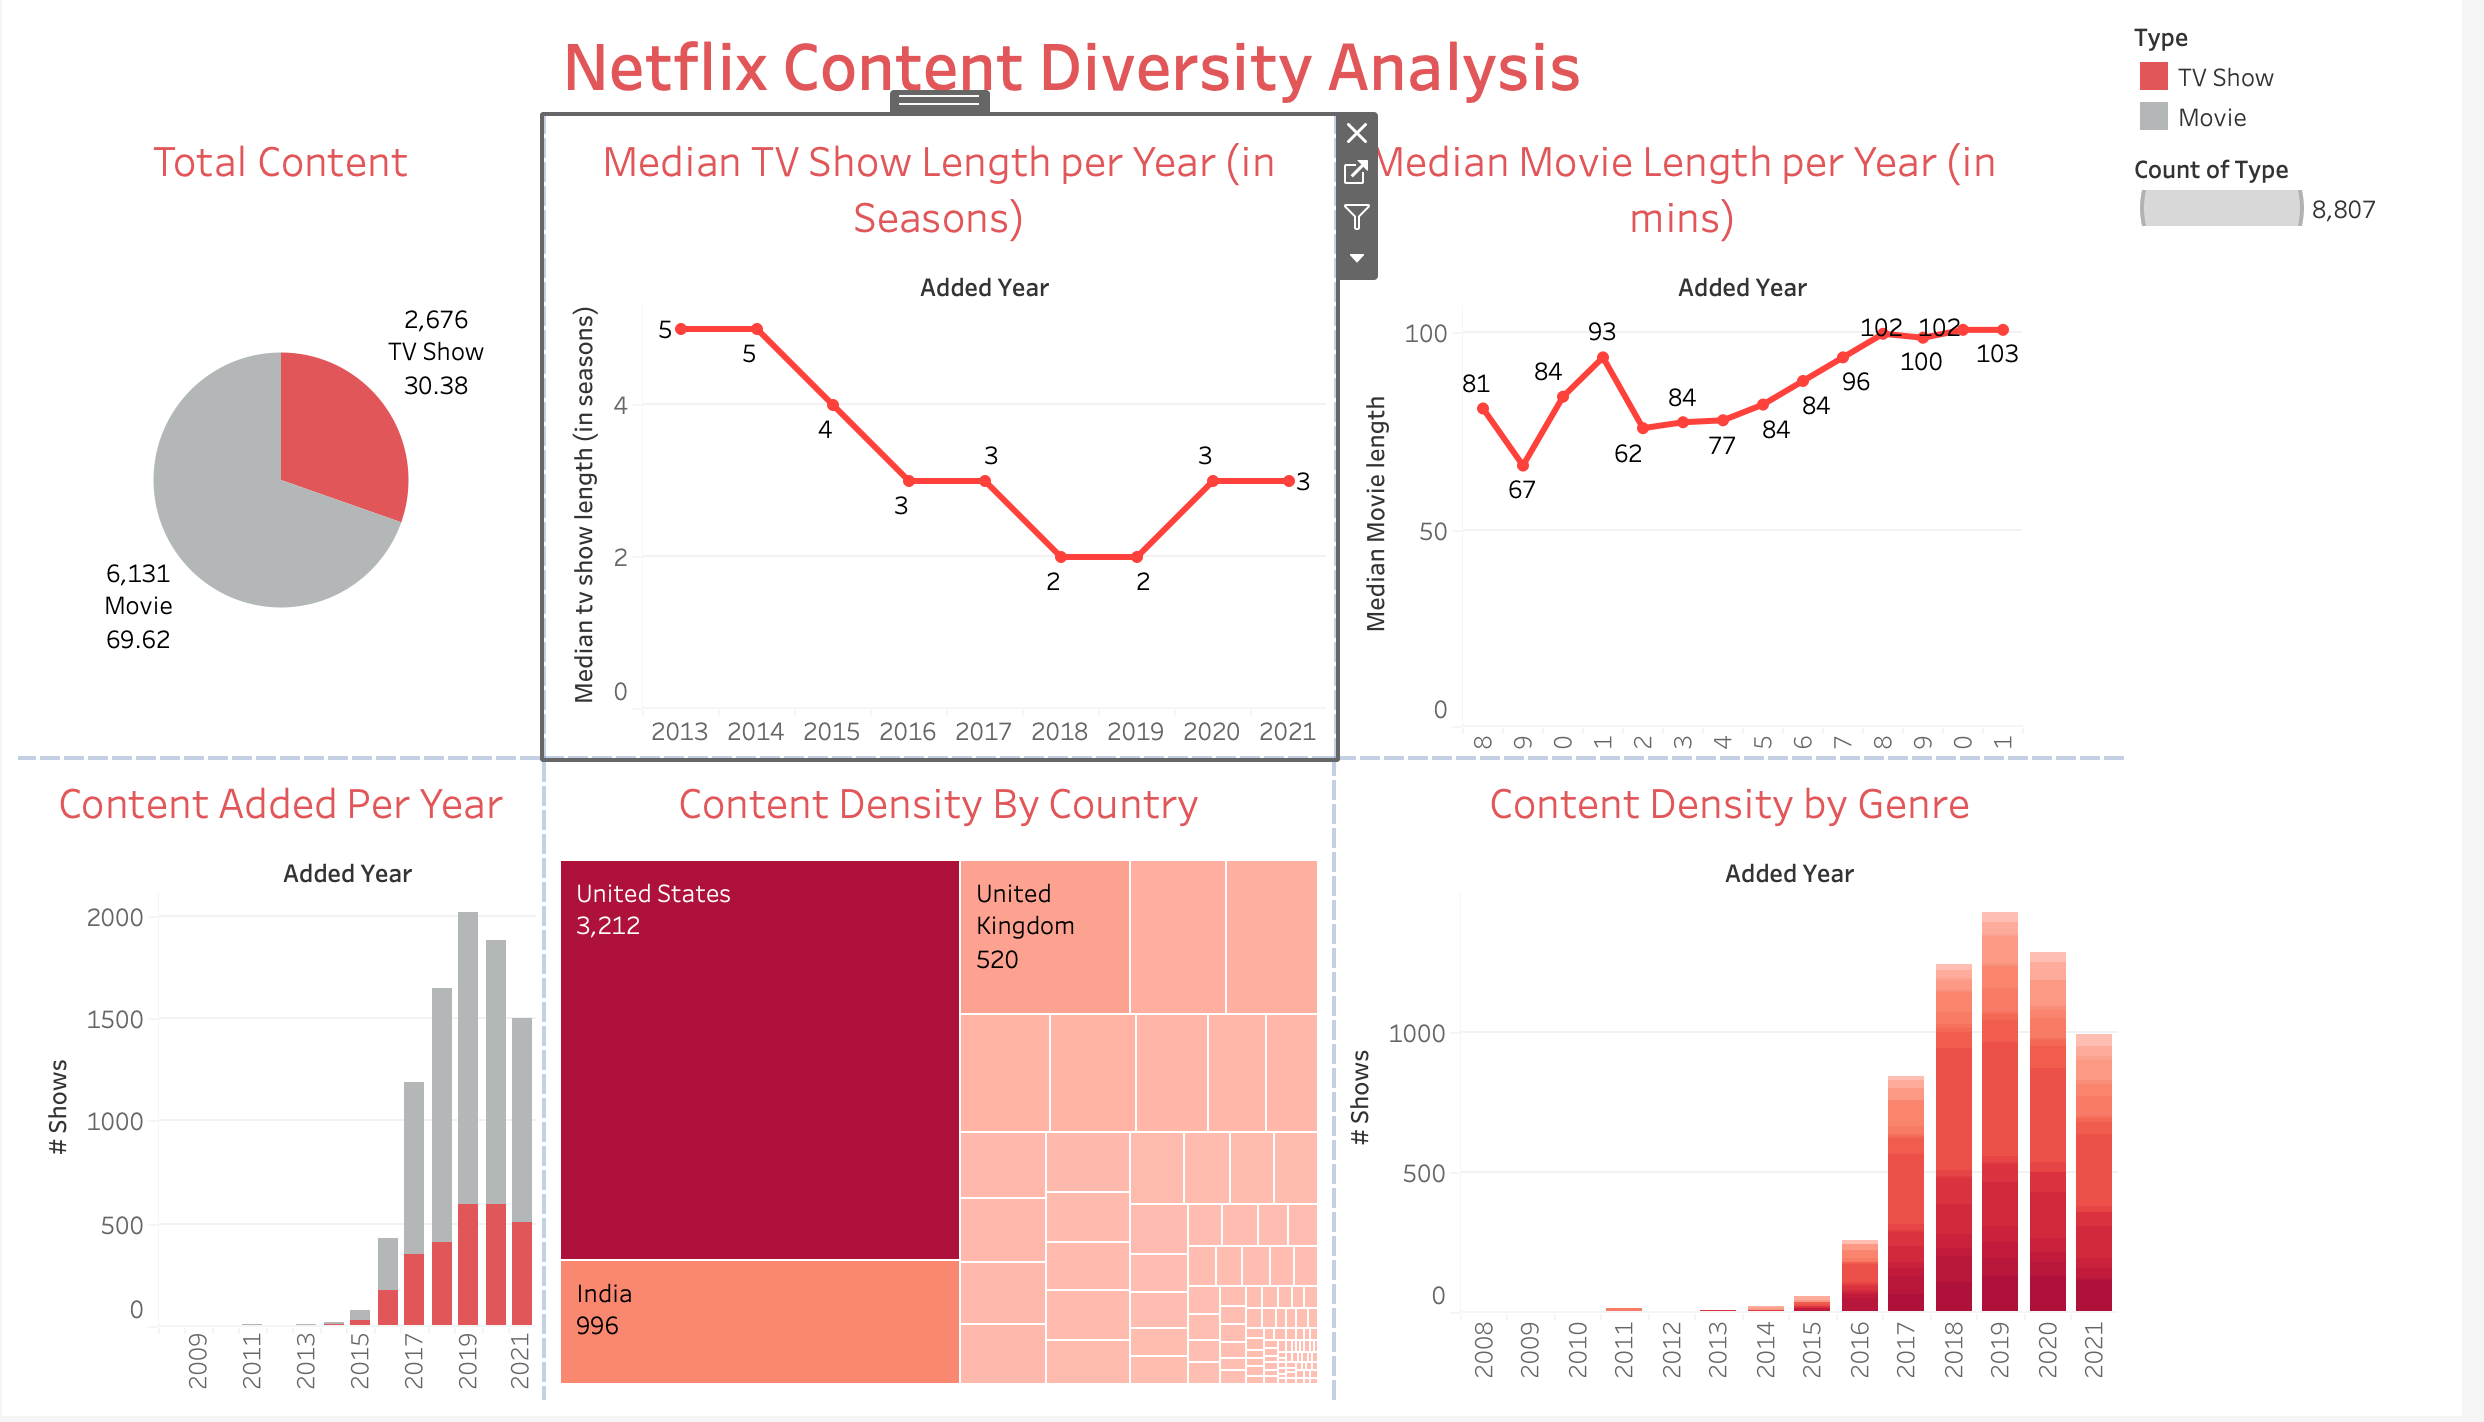

Layout of this report page (visuals, bound fields, positions):
{"tool":"tableau","page":{"name":"Netflix Content diversity","canvas":[1000,1000],"units":"permille","ordinal":0},"visuals":[{"type":"title","box":[6.5,11.8,856.9,76.8]},{"type":"legend","title":"all content overview","param":"[federated.0inwsbh1lyu0v21gy3knf0vyyr1w].[none:type:nk]","box":[863.4,11.8,130.1,97.5]},{"type":"worksheet","title":"all content overview","mark":"Pie","box":[6.5,88.6,214.2,449.7]},{"type":"worksheet","title":"average tv show length by year","mark":"Line","rows":["Calculation_1216886701337534480"],"cols":["Calculation_1316106630655442946"],"box":[220.7,88.6,321.3,449.7]},{"type":"worksheet","title":"average movie length per year","mark":"Line","rows":["Calculation_1216886701334831119"],"cols":["Calculation_1316106630655442946"],"box":[542,88.6,321.4,449.7]},{"type":"legend","title":"all content overview","param":"[federated.0inwsbh1lyu0v21gy3knf0vyyr1w].[cnt:type:qk]","box":[863.4,109.3,130.1,68]},{"type":"worksheet","title":"content by year","mark":"Bar","rows":["show_id"],"cols":["Calculation_1316106630655442946"],"box":[6.5,538.4,214.2,449.8]},{"type":"worksheet","title":"Content Densitiy by country","mark":"Automatic","box":[220.7,538.4,321.1,449.8]},{"type":"worksheet","title":"added content by genere","mark":"Bar","rows":["show_id"],"cols":["Calculation_1316106630655442946"],"box":[541.8,538.4,321.6,449.8]}]}

Visuals, with their boxes on the dashboard's canvas, which has no fixed pixel size, in thousandths of its width and height (x1, y1, x2, y2). These are canvas units, not pixel positions in the 2484x1422 screenshot, which may show the page scaled, cropped or inside an application window:
title: 6:12:863:89
"all content overview" legend: 863:12:994:109
"all content overview" worksheet (Pie marks): 6:89:221:538
"average tv show length by year" worksheet (Line marks): 221:89:542:538
"average movie length per year" worksheet (Line marks): 542:89:863:538
"all content overview" legend: 863:109:994:177
"content by year" worksheet (Bar marks): 6:538:221:988
"Content Densitiy by country" worksheet: 221:538:542:988
"added content by genere" worksheet (Bar marks): 542:538:863:988
